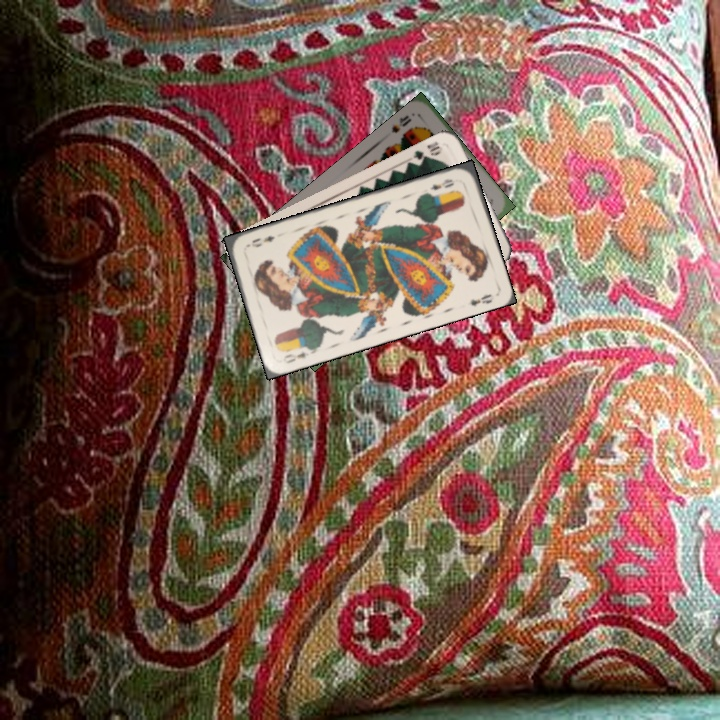EO: (279, 342, 317, 366), (425, 175, 456, 193)
G10: (409, 137, 445, 166)
S8: (387, 111, 414, 136)
